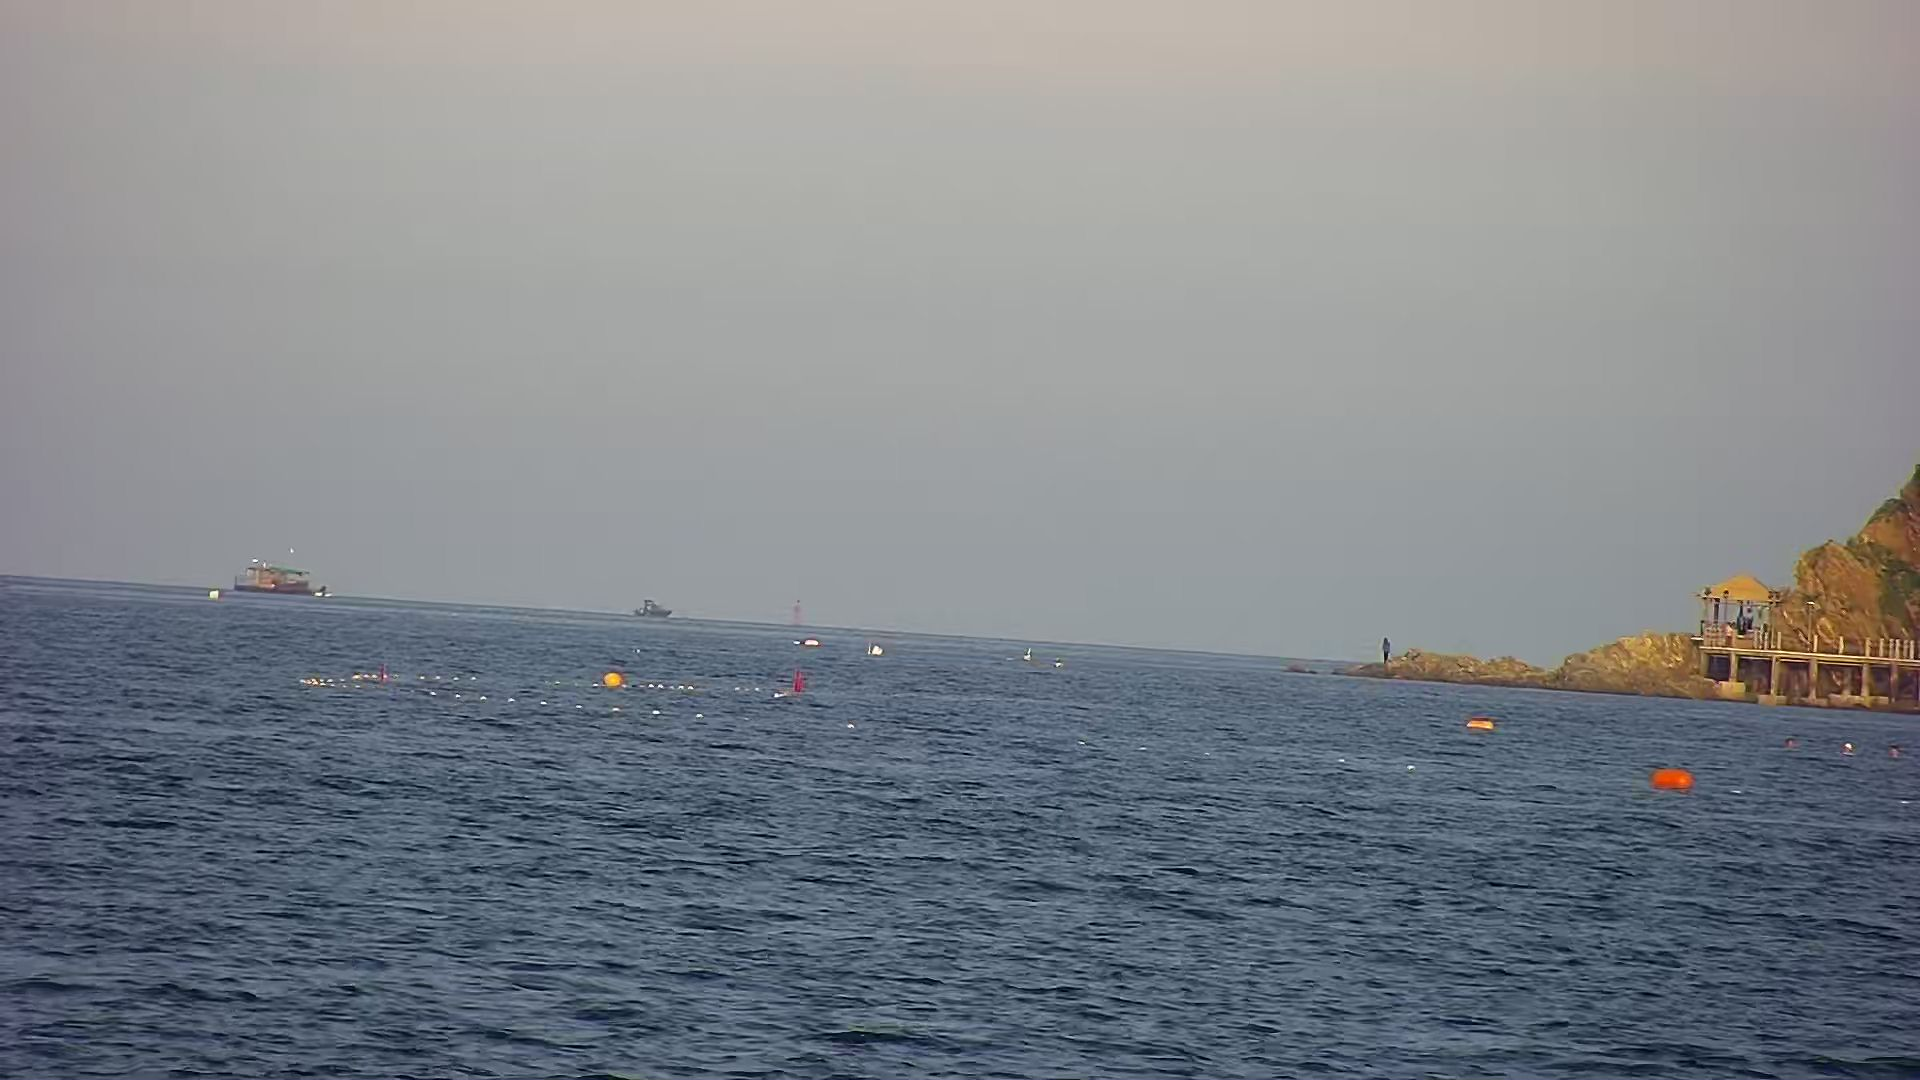ball: (1644, 757, 1701, 799), (589, 659, 636, 687)
boat: (626, 588, 680, 622)
buoy: (767, 605, 814, 717)
platform: (220, 541, 328, 597)
rubbish: (1458, 709, 1499, 736)
